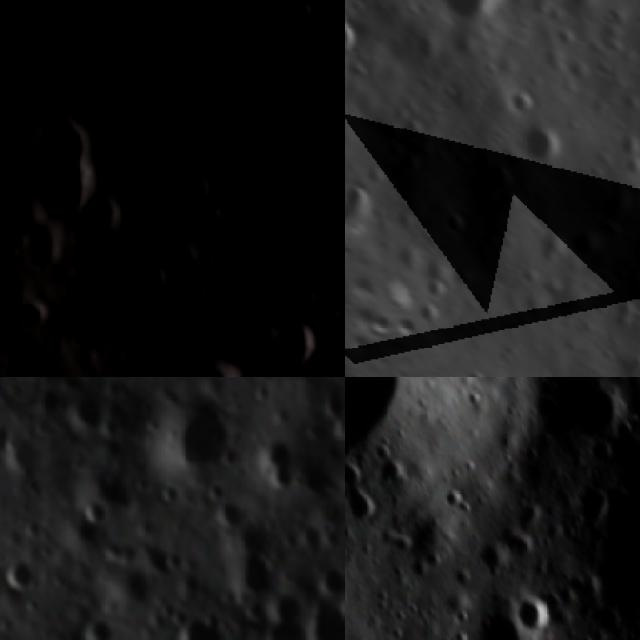crater: (345, 377, 426, 527), (11, 109, 107, 228), (153, 387, 240, 488), (517, 377, 634, 446), (140, 216, 218, 299), (254, 301, 335, 377), (68, 192, 133, 265), (415, 0, 524, 42), (510, 112, 573, 176), (455, 599, 535, 640), (305, 150, 345, 227), (595, 281, 640, 340), (494, 74, 546, 123), (163, 350, 252, 377), (480, 148, 527, 198), (296, 233, 342, 284), (8, 294, 58, 340), (169, 611, 243, 640), (203, 490, 251, 533), (345, 0, 373, 73), (471, 538, 516, 583), (508, 590, 554, 634), (345, 166, 384, 217), (0, 549, 42, 596), (433, 200, 476, 242), (72, 496, 115, 531), (277, 0, 323, 30), (75, 613, 124, 640), (314, 563, 345, 600), (10, 377, 81, 391)
